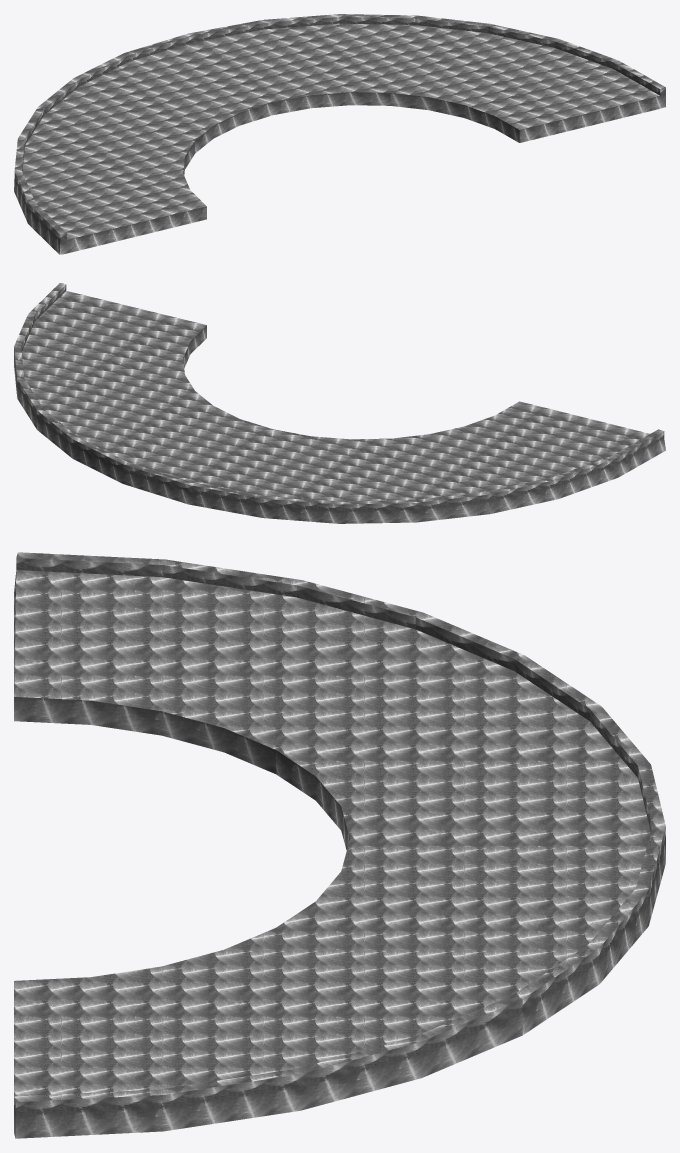
The model's file is table_work.FBX.
The picture shows the model from 3 angles, top to bottom: view 1: azimuth 30°, elevation 25°; view 2: azimuth 150°, elevation 25°; view 3: azimuth 270°, elevation 25°; orthographic projection. The views are drawn at different scales.
Parts seen in each view (by area): view 1: tableWork; view 2: tableWork; view 3: tableWork.
Boxes of the visible parts, x1,y1,x2,y2 form: tableWork: (14, 14, 665, 254); tableWork: (14, 283, 665, 523); tableWork: (14, 552, 665, 1138).
Bounding box in the file's own units: 194 × 6 × 97.
1 material, 1 textured.
